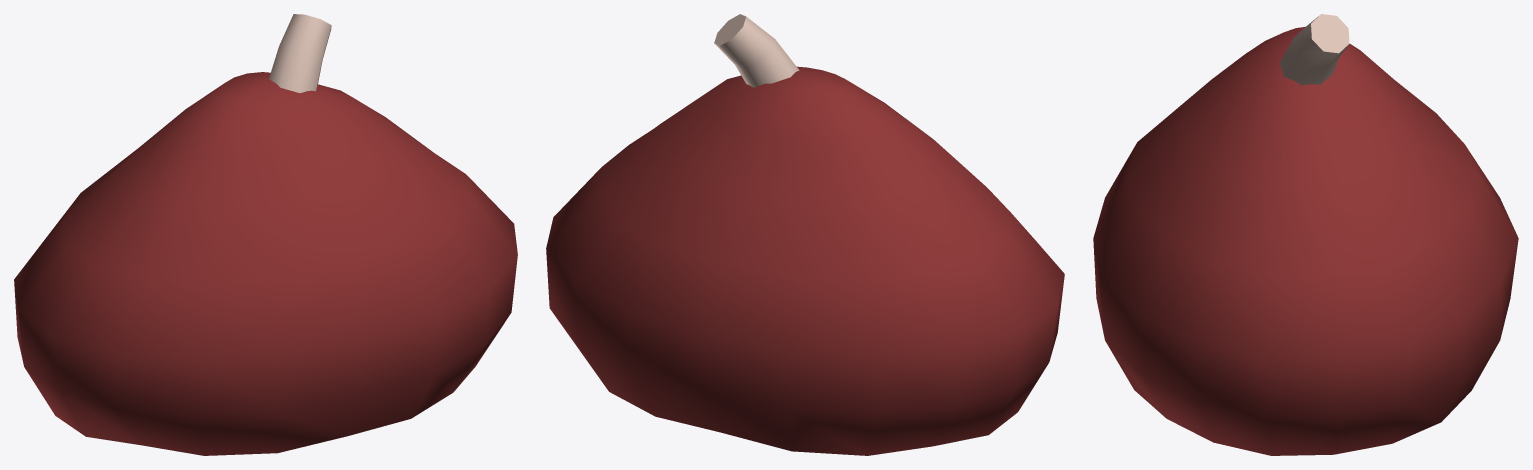
Rendered from heath_grouse_heart.glb.
3 renders of one model, left to right at view 1: azimuth 30°, elevation 25°; view 2: azimuth 150°, elevation 25°; view 3: azimuth 270°, elevation 25°, orthographic. The views are drawn at different scales.
Parts seen in each view (by area): view 1: heath_grouse_heart; view 2: heath_grouse_heart; view 3: heath_grouse_heart.
Part boxes in pixels (x1=…): heath_grouse_heart: x1=14, y1=14, x2=517, y2=455; heath_grouse_heart: x1=546, y1=14, x2=1064, y2=455; heath_grouse_heart: x1=1093, y1=14, x2=1518, y2=455.
Size of the model in its own units: 0.02 by 0.015 by 0.015.
